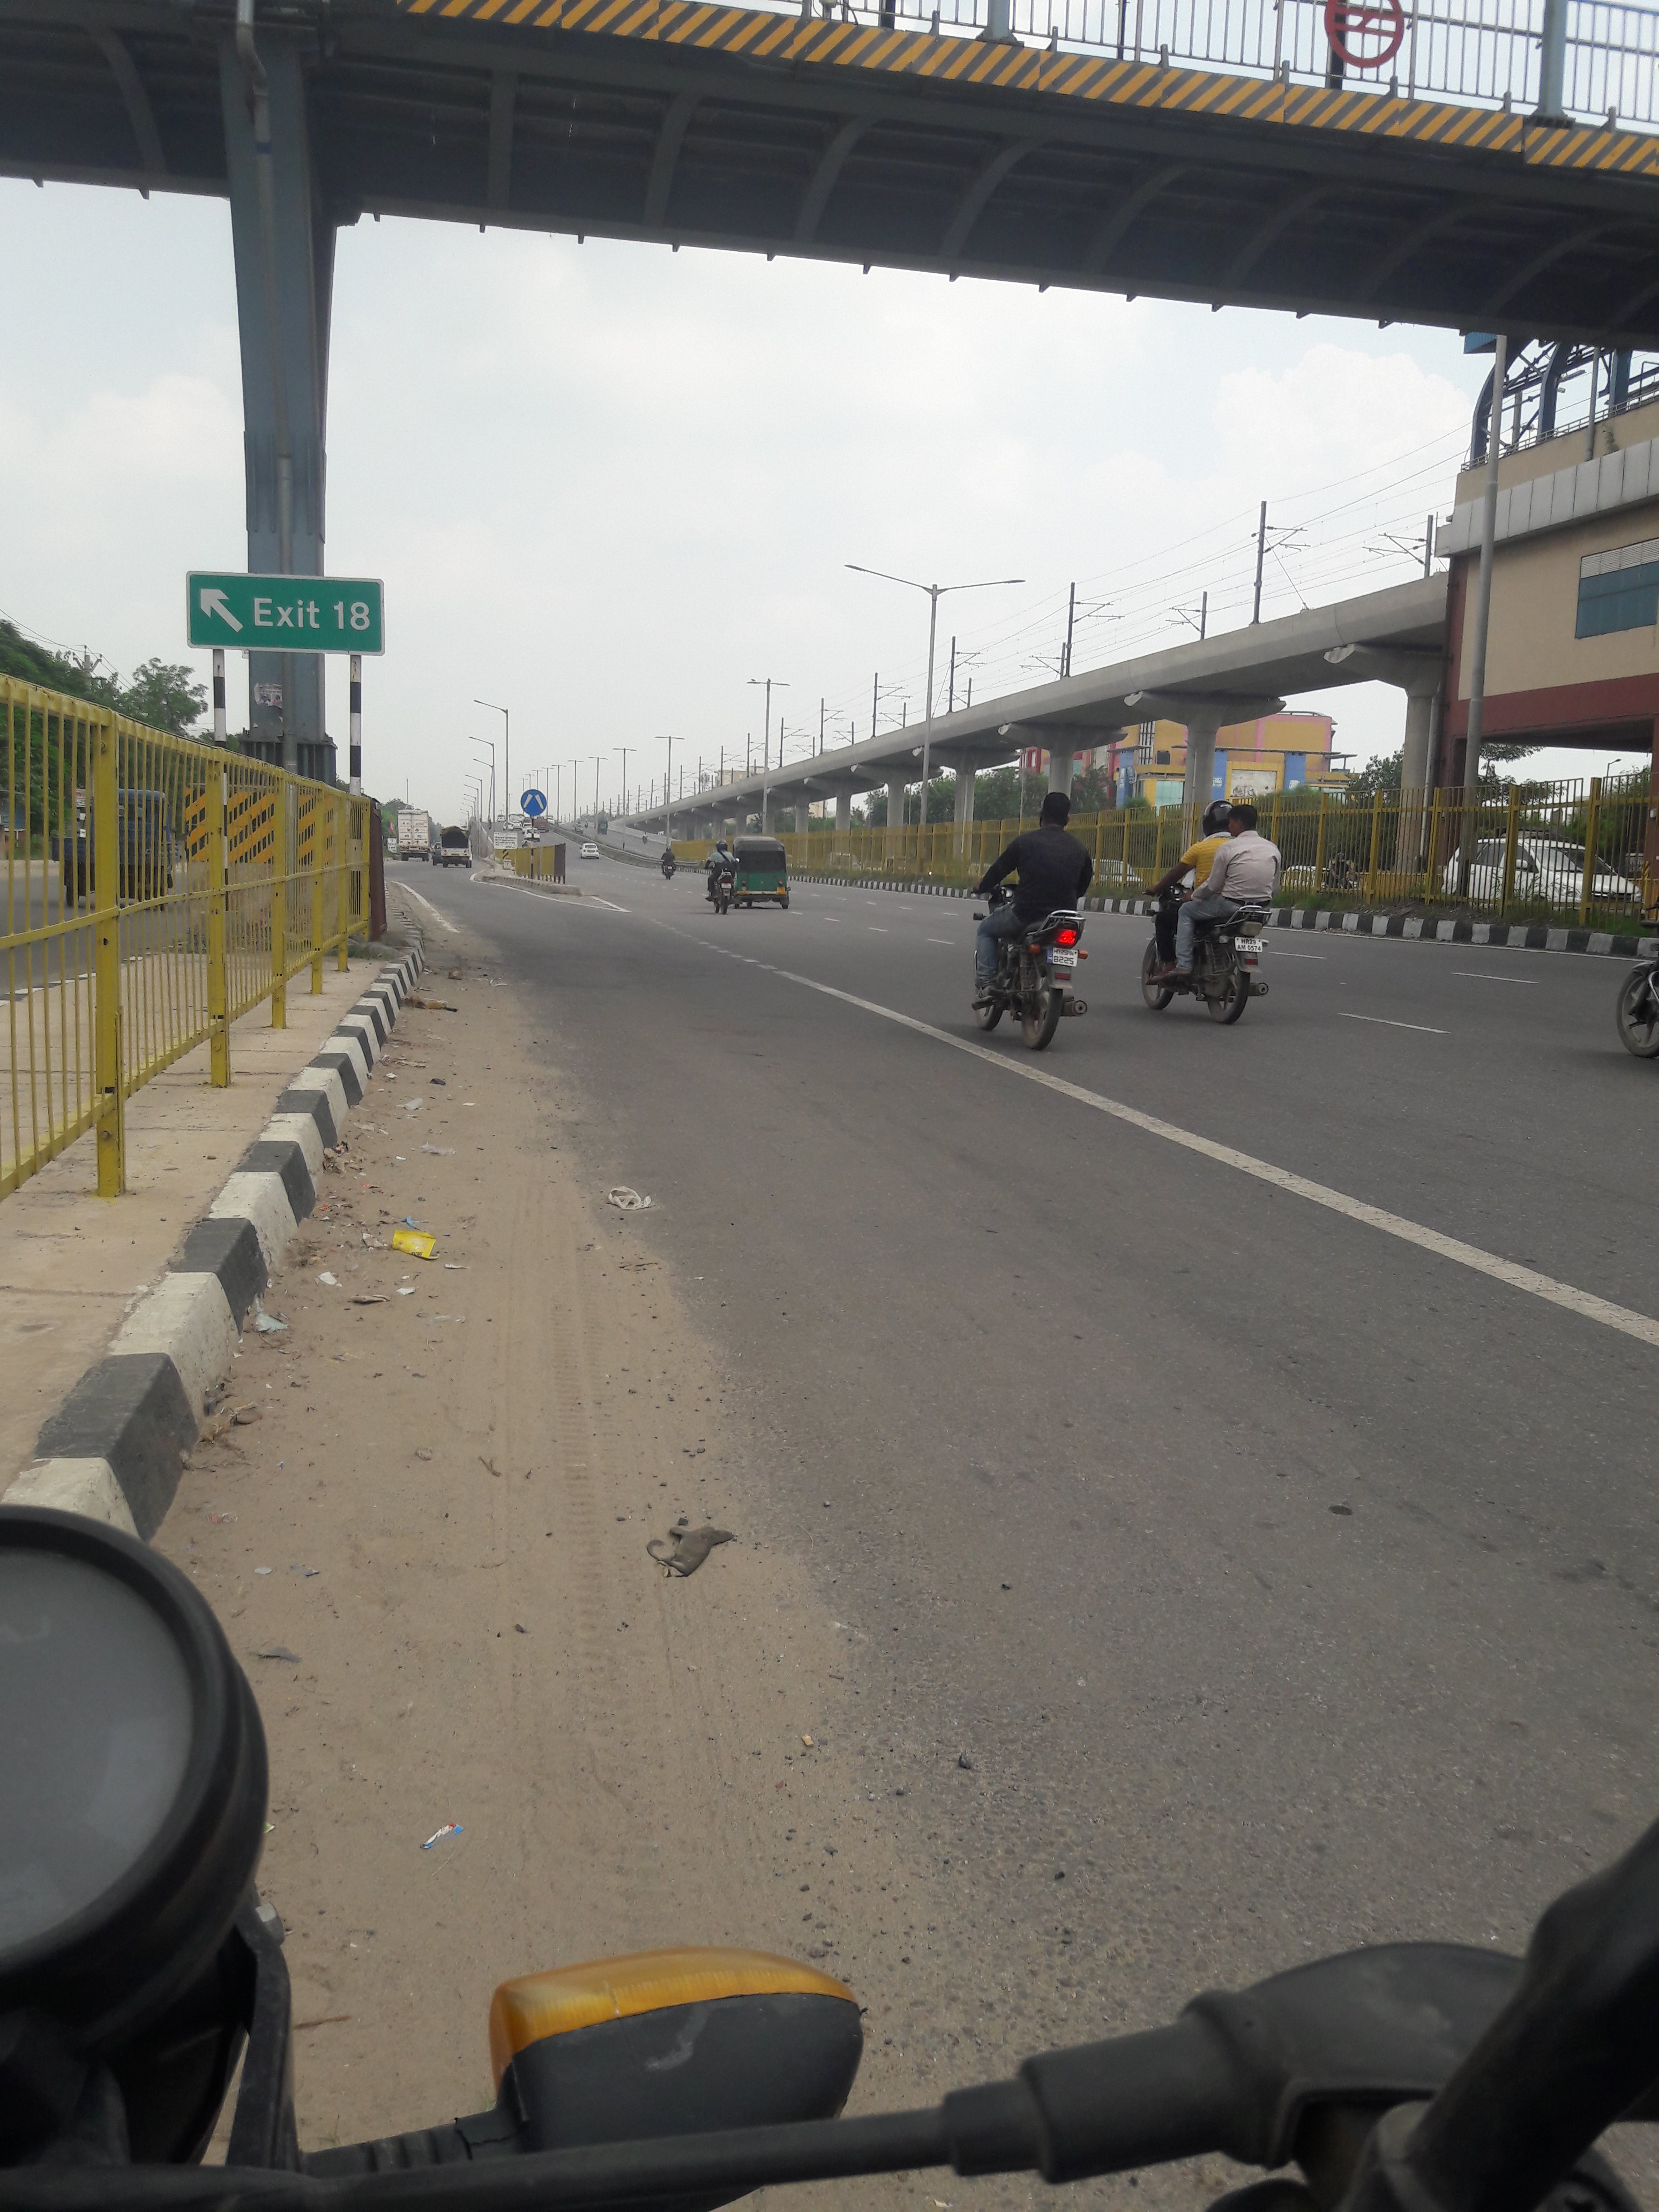traffic_sign: (521, 789, 547, 819)
